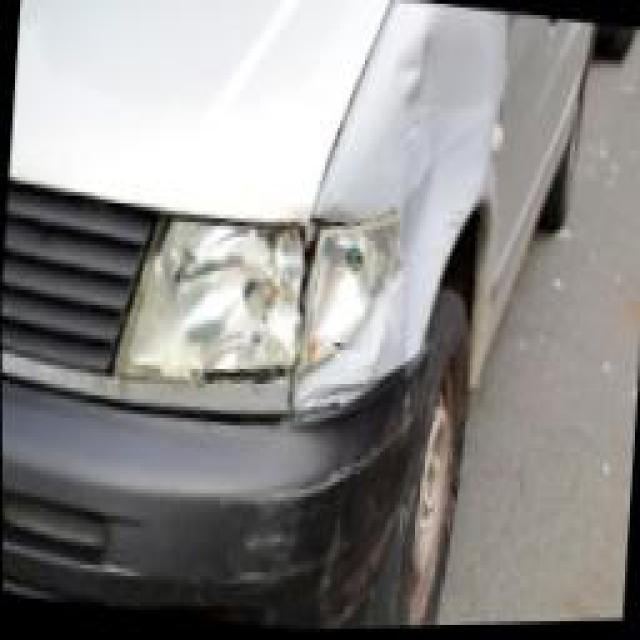Bumper: (202, 392, 433, 635)
Fender: (385, 11, 498, 255)
Light: (135, 211, 396, 413)
